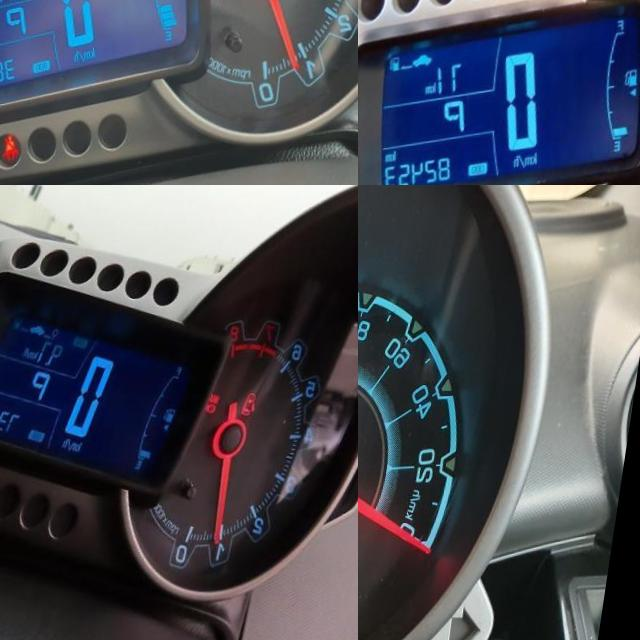Doors: (253, 394, 275, 421)
